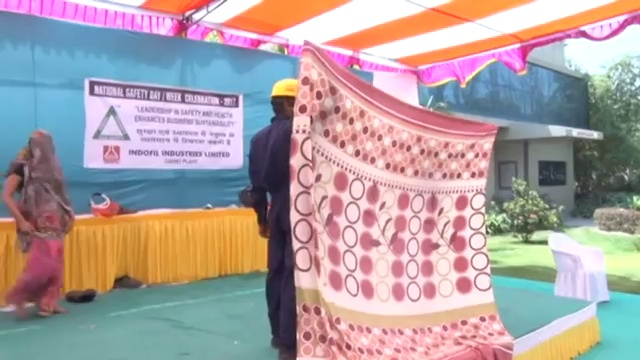helmet: (268, 77, 299, 100)
helmet_off: (25, 126, 58, 162)
helmet_on: (267, 78, 300, 119)
person: (244, 77, 298, 358), (1, 124, 74, 317)
